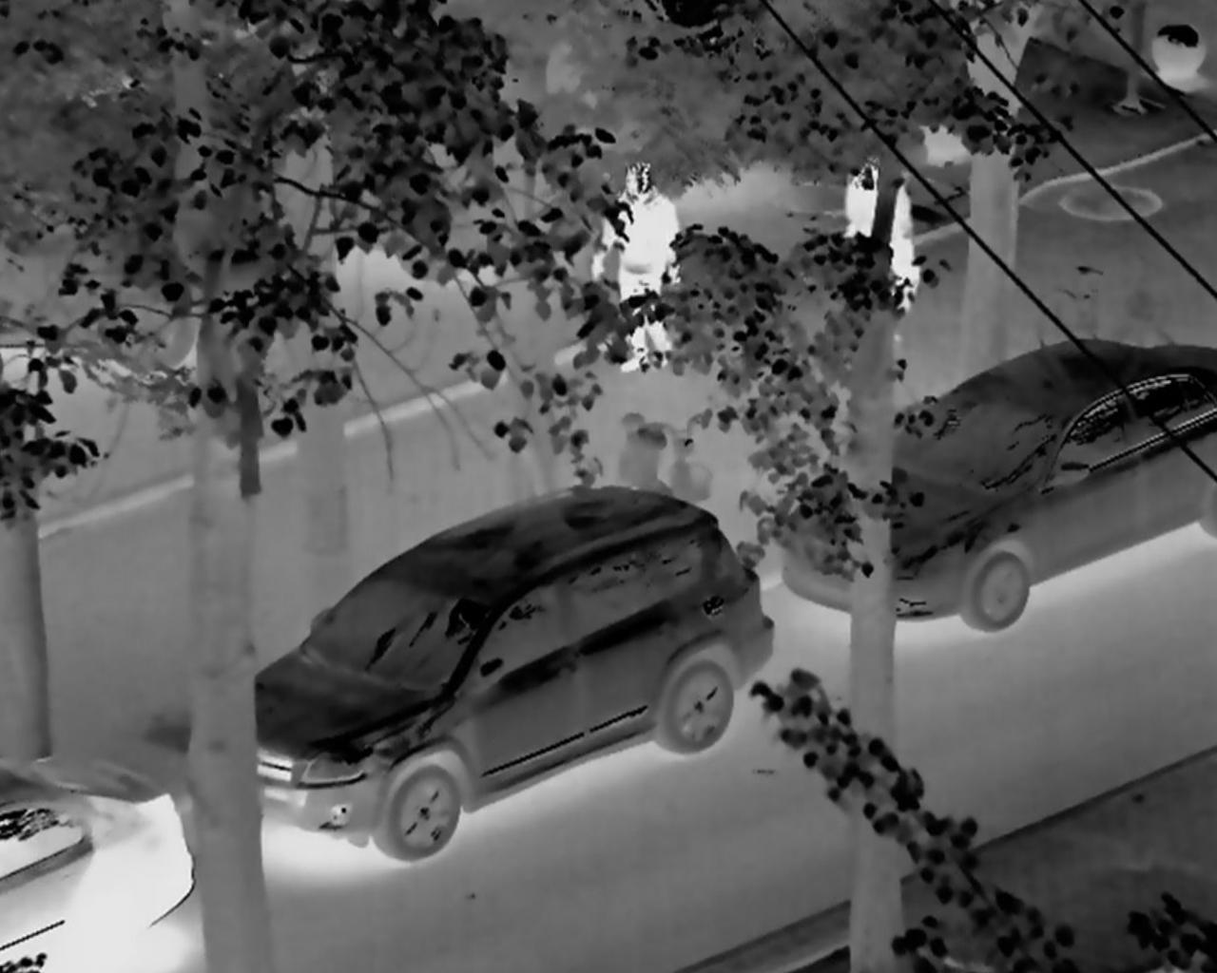person: (586, 151, 695, 367), (839, 131, 940, 327)
